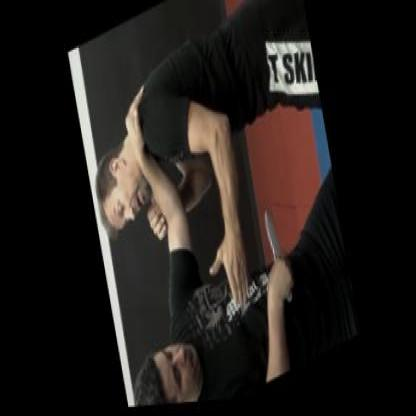knife: (258, 202, 294, 312)
